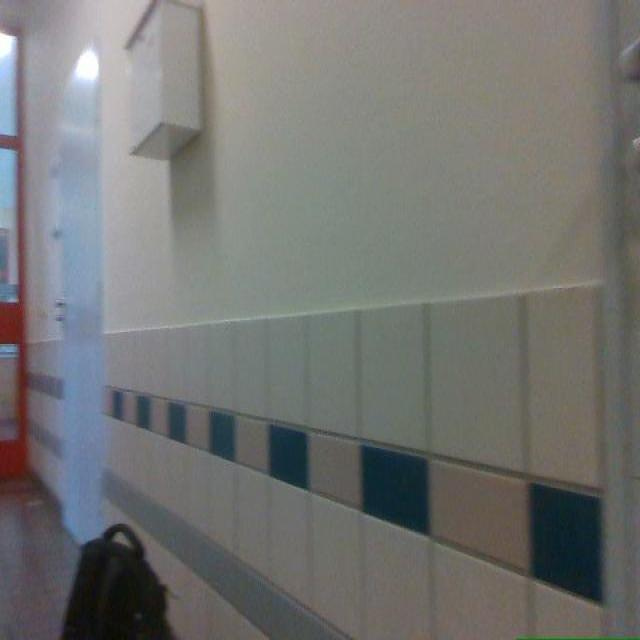objects: (61, 524, 171, 639)
